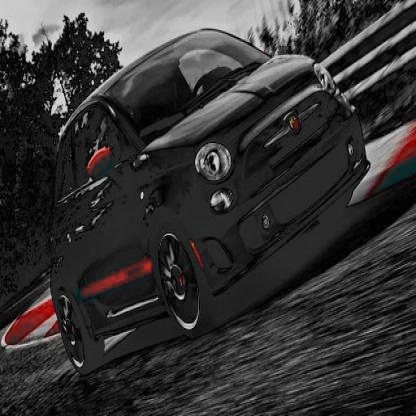Vehicle: (48, 24, 372, 378)
